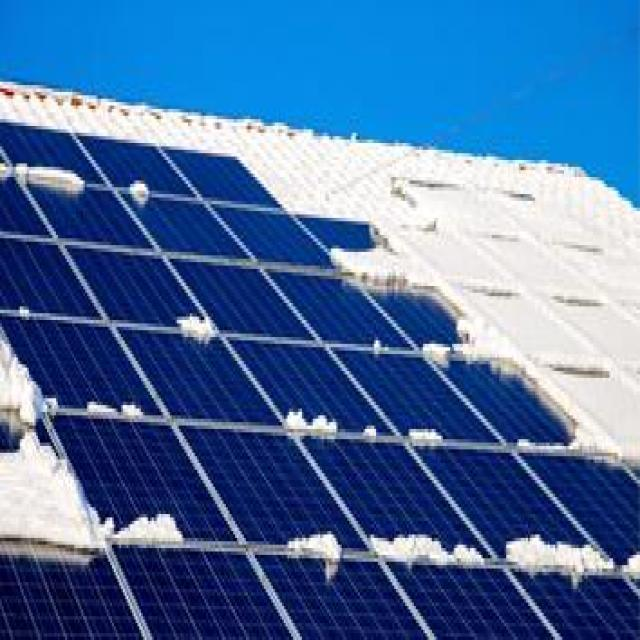Snow: (292, 215, 639, 462), (0, 334, 110, 561), (497, 534, 619, 577), (363, 530, 486, 570), (0, 157, 101, 201), (270, 518, 346, 575), (402, 405, 454, 465), (118, 507, 194, 548), (278, 405, 340, 439), (170, 315, 219, 356), (126, 172, 161, 211), (360, 422, 383, 455), (617, 548, 639, 581), (116, 402, 148, 422), (16, 308, 33, 320)
